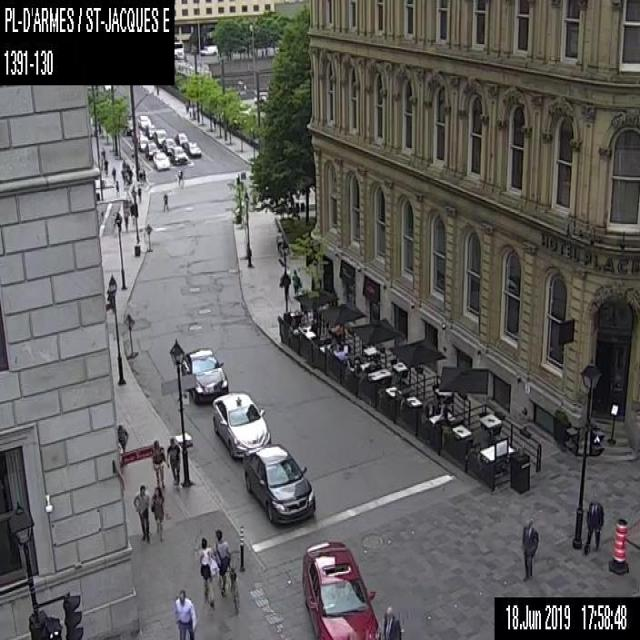bus: (174, 41, 184, 58)
construction: (608, 518, 627, 574)
pedestrian: (213, 528, 239, 611), (197, 534, 218, 607), (582, 488, 604, 556), (172, 588, 198, 639), (520, 516, 539, 581), (132, 484, 150, 542), (150, 484, 167, 542), (150, 438, 167, 488), (166, 436, 180, 486), (382, 605, 402, 639), (279, 267, 291, 302), (292, 268, 302, 295), (174, 168, 184, 189), (122, 208, 129, 231), (162, 191, 168, 213), (136, 184, 142, 202), (103, 157, 108, 174), (114, 179, 119, 196), (100, 146, 105, 160), (111, 165, 115, 182), (121, 158, 126, 170)
vehicle: (301, 540, 380, 639), (243, 446, 316, 522), (212, 392, 270, 458), (180, 346, 228, 403), (181, 140, 201, 158), (169, 146, 188, 164), (153, 151, 170, 170), (152, 128, 166, 147), (161, 137, 176, 154), (144, 142, 159, 158), (121, 119, 133, 137), (173, 131, 188, 144), (137, 114, 150, 129), (198, 45, 218, 54), (144, 124, 155, 138), (136, 136, 146, 150)
